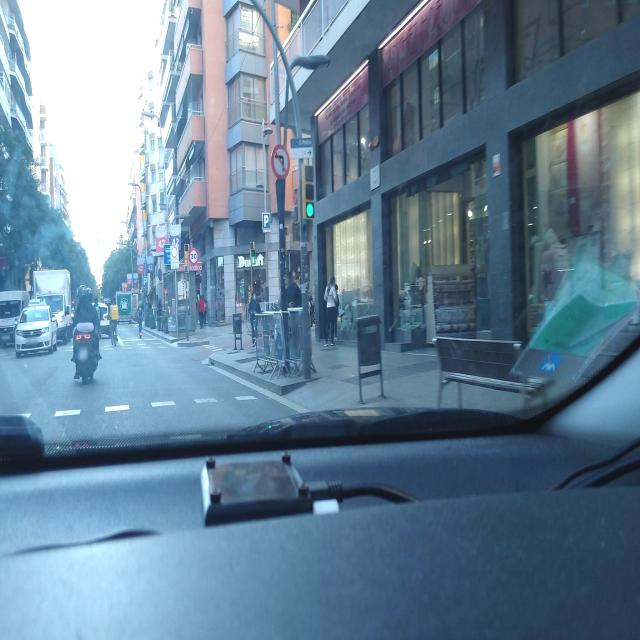bike: (71, 317, 101, 386), (109, 320, 119, 346)
car: (14, 300, 58, 358), (3, 284, 28, 343), (98, 302, 110, 324)
